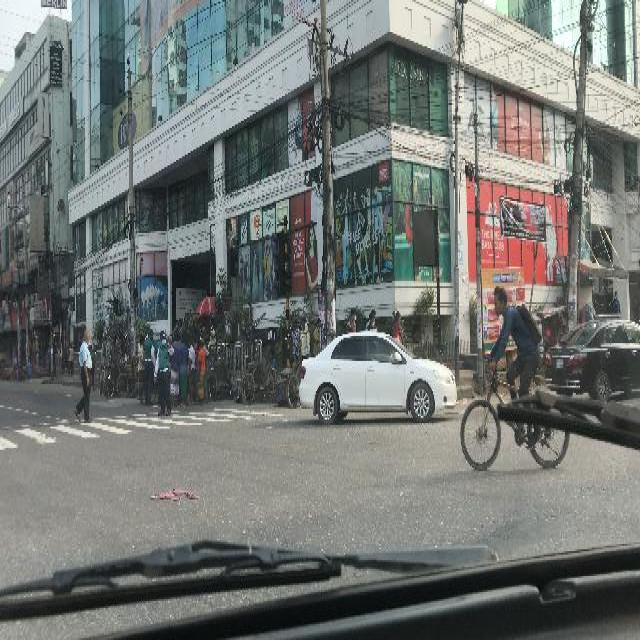bicycle: (460, 379, 566, 474)
car: (301, 332, 457, 429), (546, 319, 640, 403)
rickshaw: (578, 302, 596, 320)
